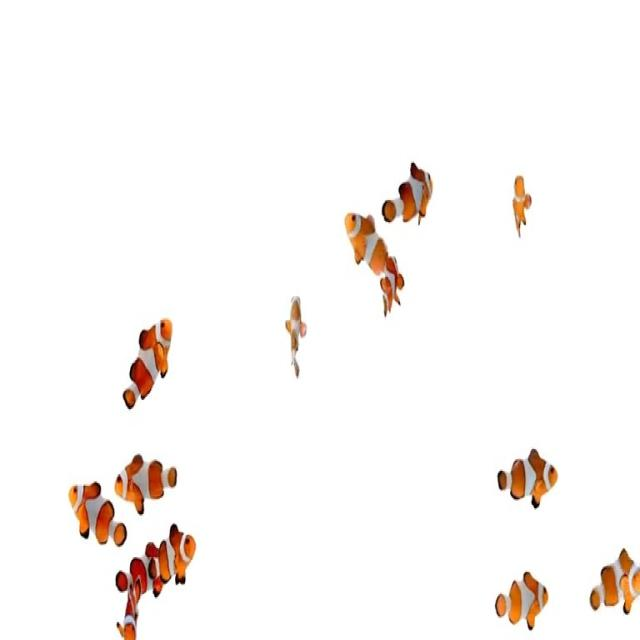fish: (483, 546, 554, 640), (344, 195, 408, 298), (118, 309, 180, 412), (109, 446, 185, 520), (582, 546, 639, 640), (70, 472, 133, 556), (496, 443, 564, 520), (144, 523, 210, 592), (377, 160, 440, 230), (284, 288, 308, 389), (505, 166, 536, 241), (379, 249, 401, 324), (117, 584, 141, 640)
